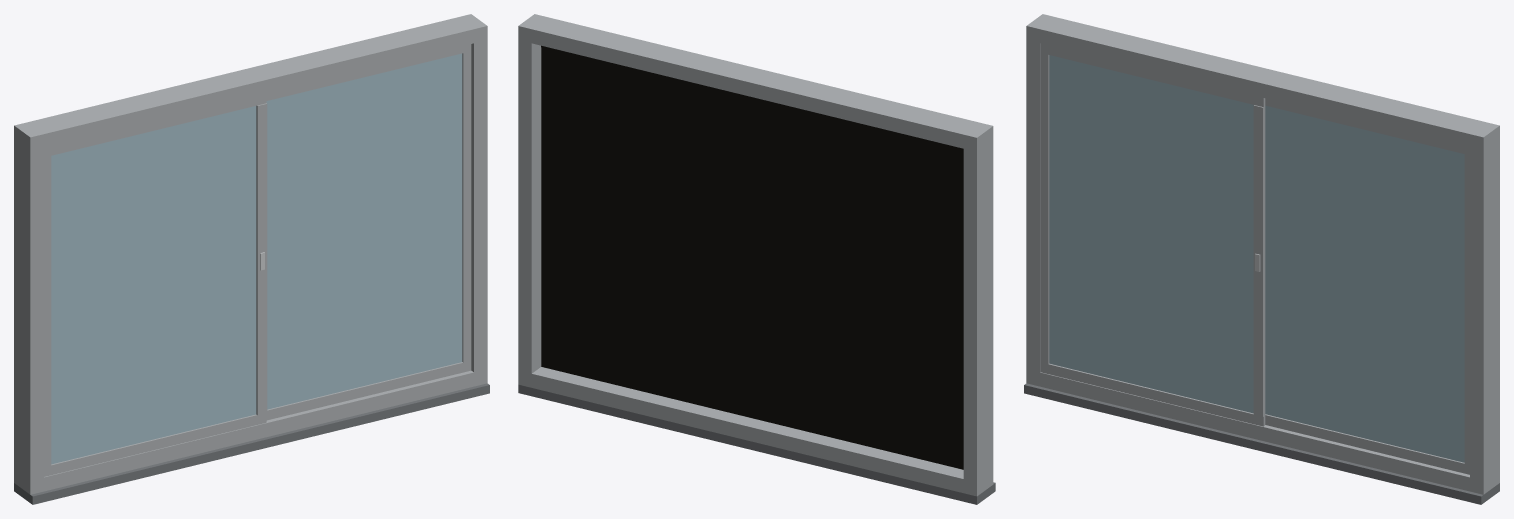
The model's file is window_ext.glb.
3 renders of one model, left to right at view 1: azimuth 30°, elevation 25°; view 2: azimuth 150°, elevation 25°; view 3: azimuth 330°, elevation 25°, orthographic.
Parts seen in each view (by area): view 1: window_ext; view 2: window_ext; view 3: window_ext.
Boxes of the visible parts, box(x1,y1,x2,y2) form: window_ext: box(14, 14, 489, 504); window_ext: box(518, 14, 995, 504); window_ext: box(1024, 14, 1499, 504).
Bounding box in the file's own units: 1.7 × 1.3 × 0.12.
